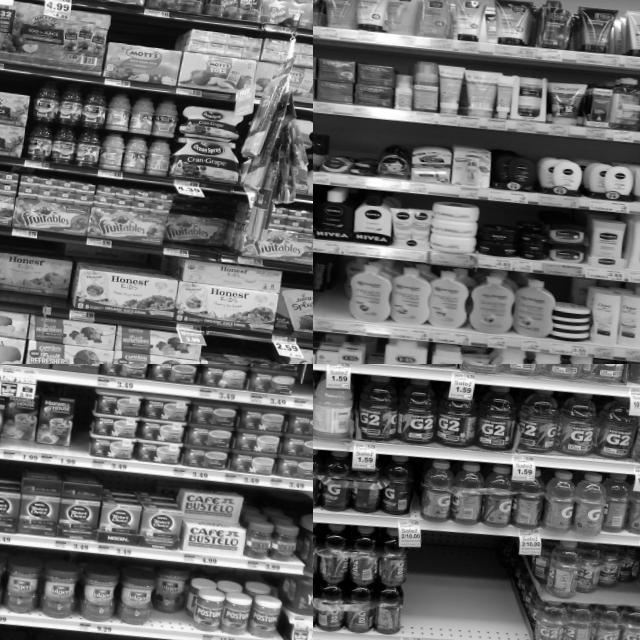Imprecise: (184, 490, 244, 552), (576, 546, 640, 603), (151, 570, 195, 638), (165, 215, 238, 252)
